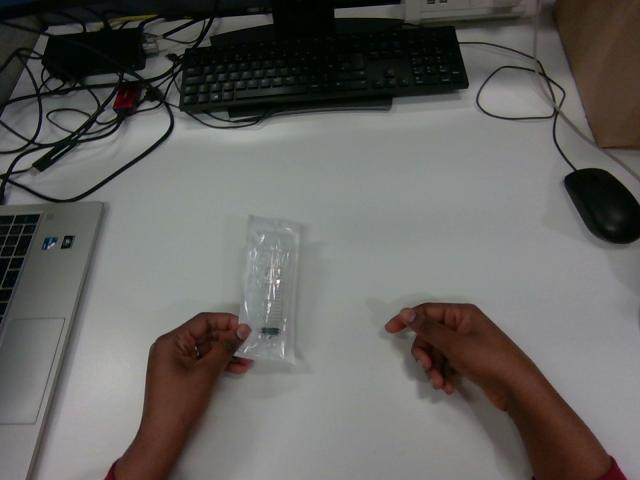syringe: (237, 216, 299, 362)
